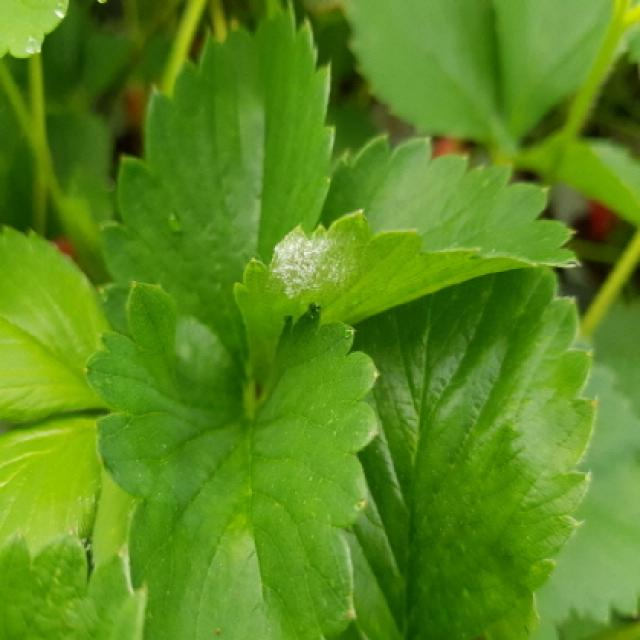Powdery Mildew Leaf: (232, 131, 584, 375)
